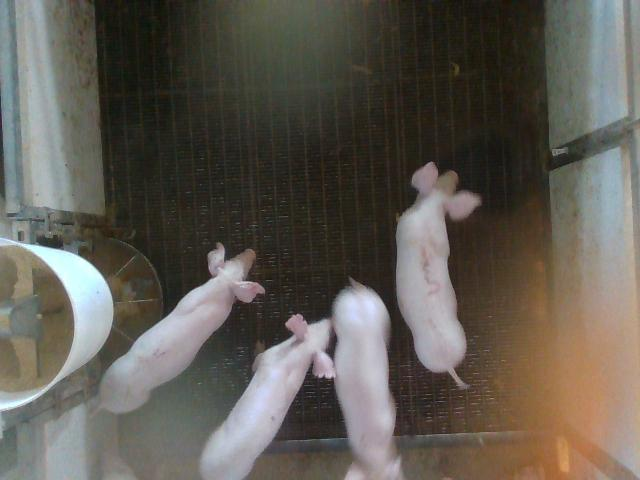pig-3: (396, 162, 481, 389)
